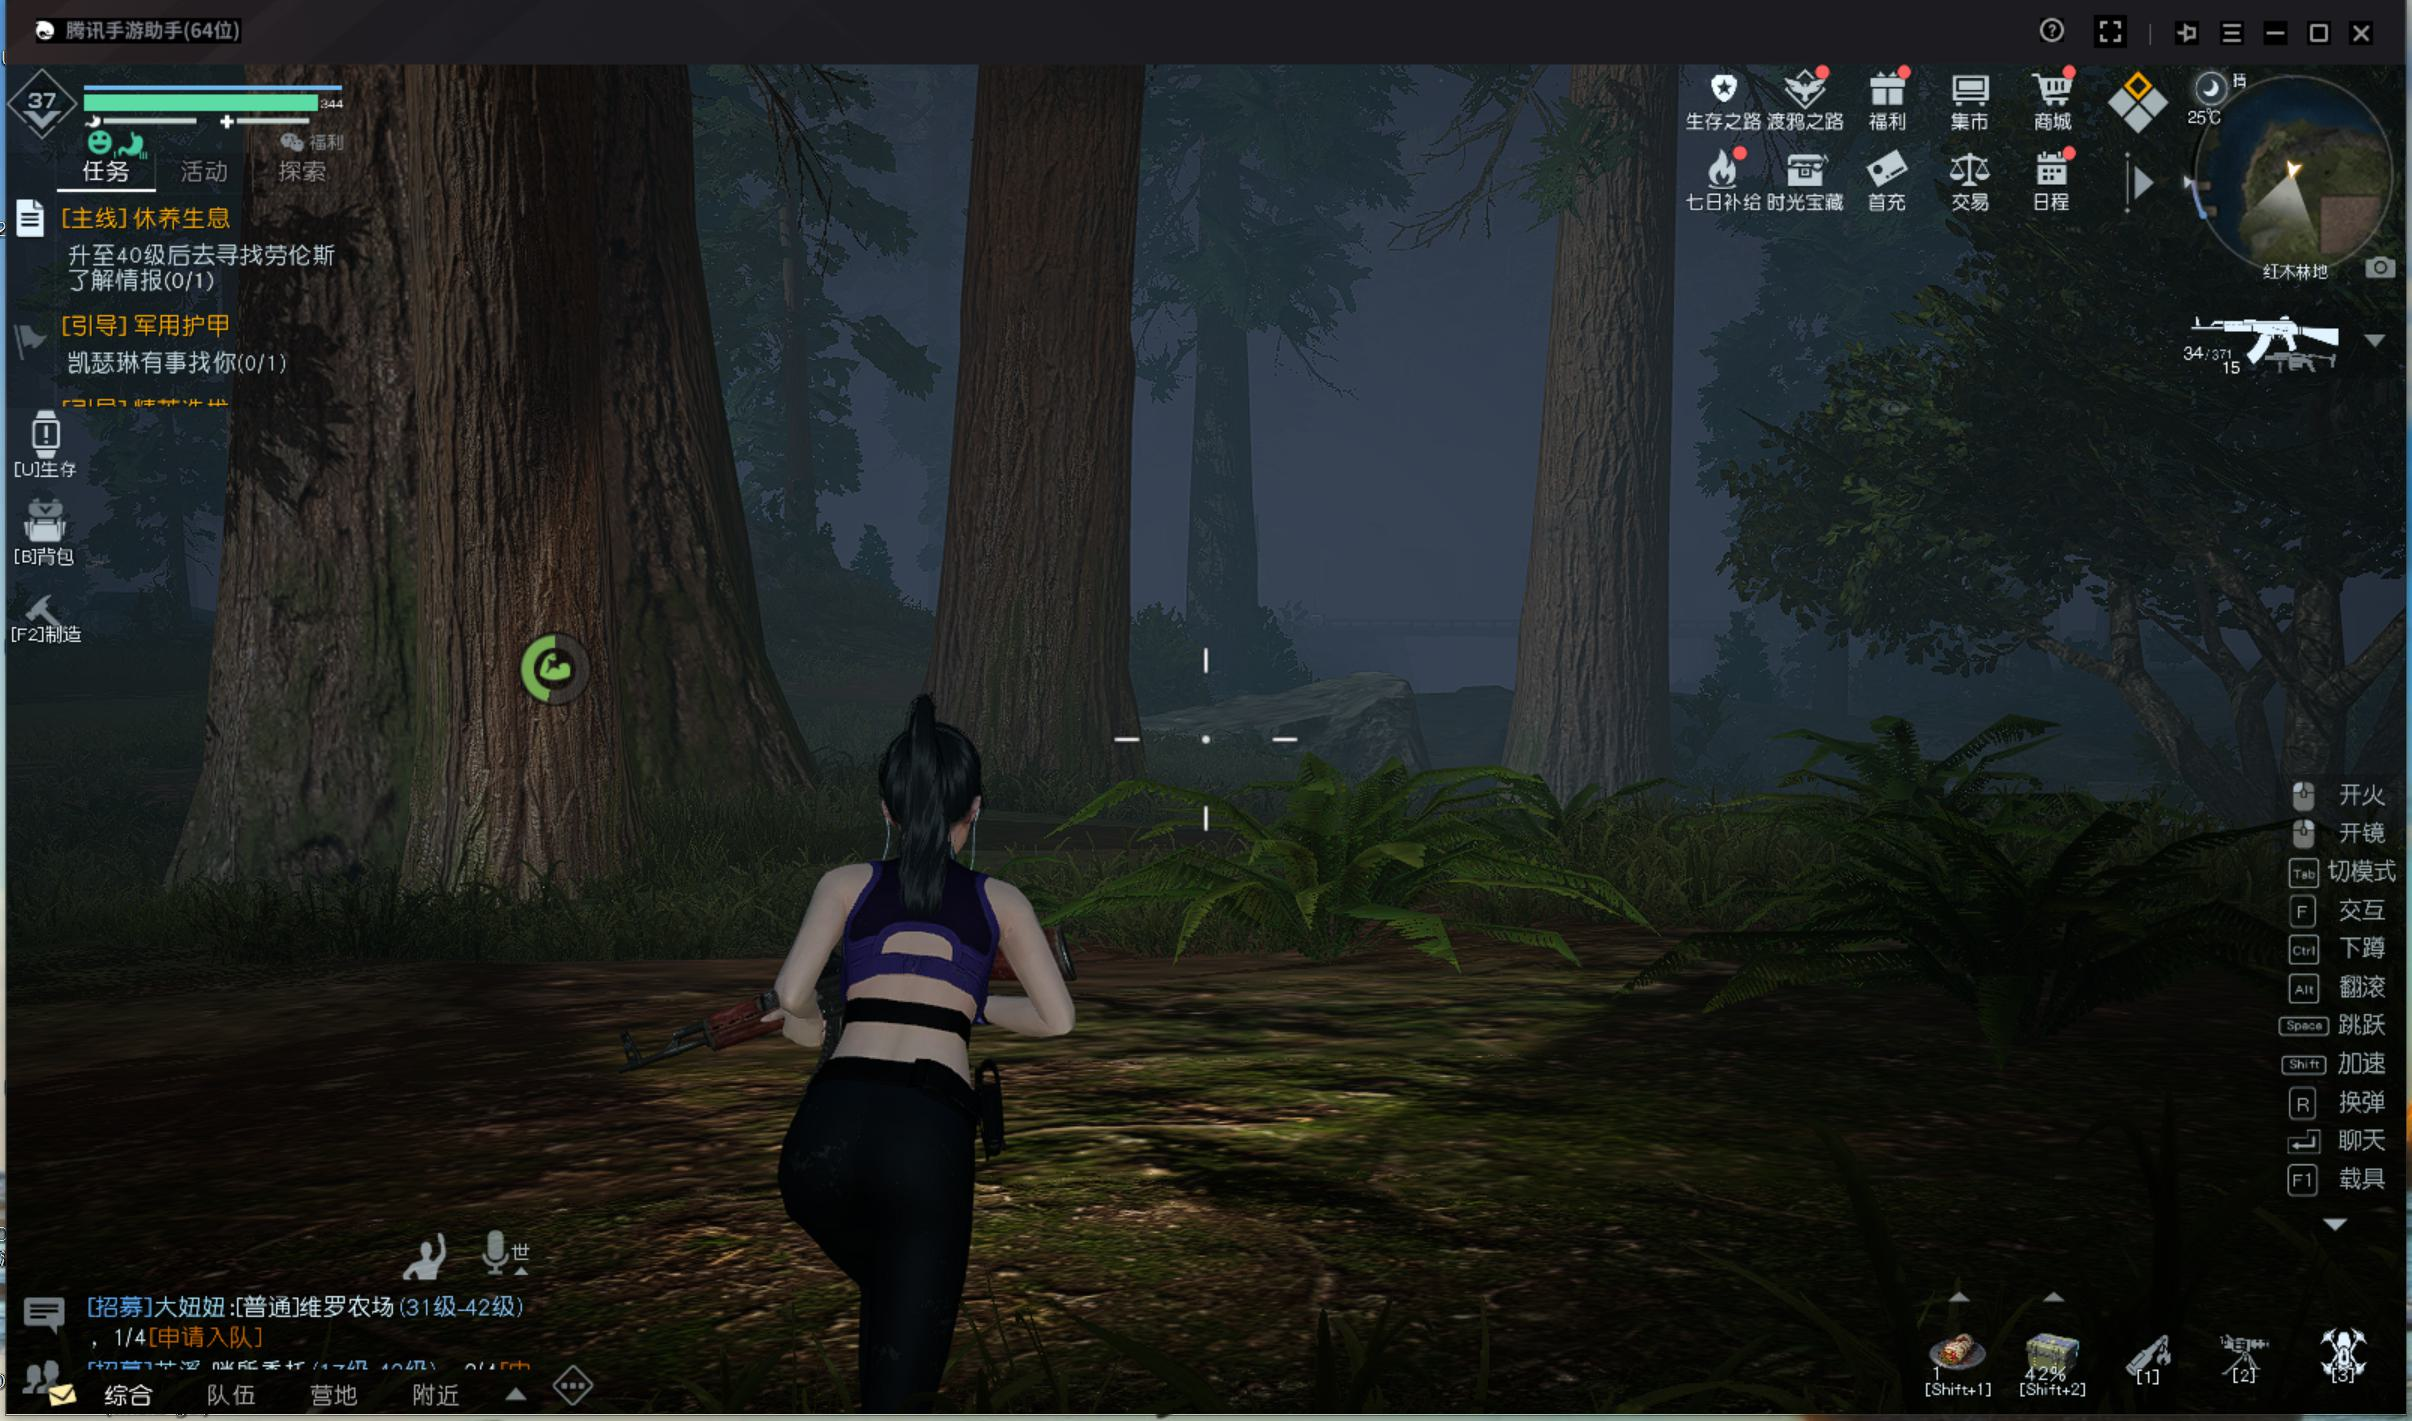tree: (205, 161, 790, 893), (934, 108, 1143, 800), (1521, 164, 1698, 868)
